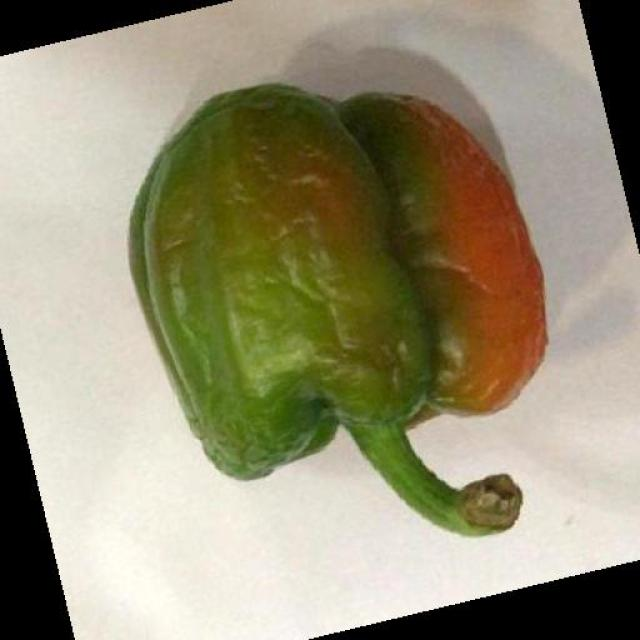Stale_Capsicum: (138, 84, 571, 560)
